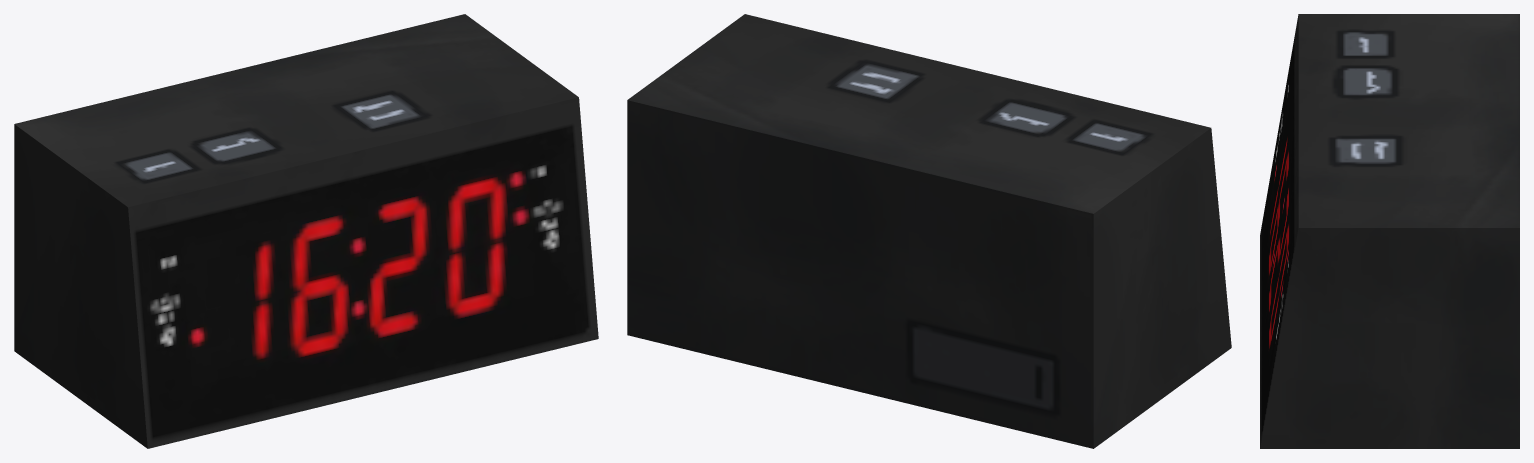
Rendered from despertador.glb.
3 renders of one model, left to right at view 1: azimuth 30°, elevation 25°; view 2: azimuth 150°, elevation 25°; view 3: azimuth 270°, elevation 25°, orthographic. The views are drawn at different scales.
Parts seen in each view (by area): view 1: despertador; view 2: despertador; view 3: despertador.
Part boxes in pixels (x1,y1,x2,y2): despertador: (14,14,598,448); despertador: (627,14,1231,448); despertador: (1260,14,1519,448).
Size of the model in its own units: 0.2077 by 0.1 by 0.1065.
Materials: 1 (1 with a texture image).
